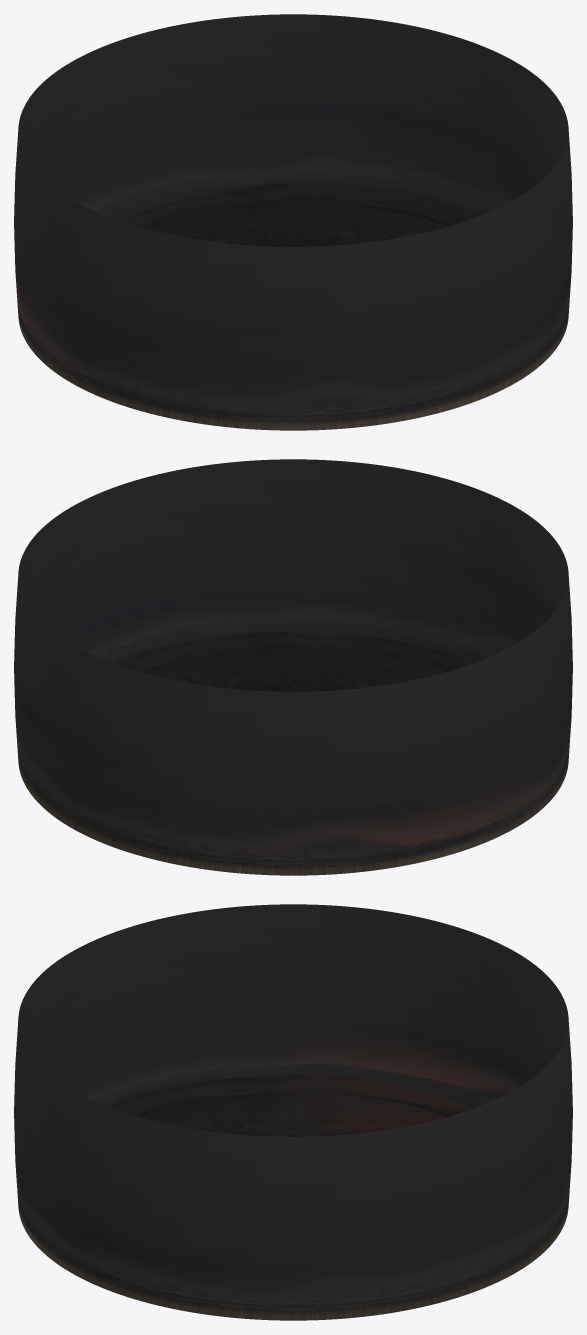
Rendered from fairground-panorama.glb.
The picture shows the model from 3 angles, top to bottom: view 1: azimuth 30°, elevation 25°; view 2: azimuth 150°, elevation 25°; view 3: azimuth 270°, elevation 25°; orthographic projection.
Visible parts, largest first — view 1: FairgroundPanorama; view 2: FairgroundPanorama; view 3: FairgroundPanorama.
Part boxes in pixels (x1,y1,x2,y2): FairgroundPanorama: [14, 14, 572, 430]; FairgroundPanorama: [14, 459, 572, 875]; FairgroundPanorama: [14, 904, 572, 1320].
Size of the model in its own units: 386 by 140 by 386.
Materials: 1 (1 with a texture image).
